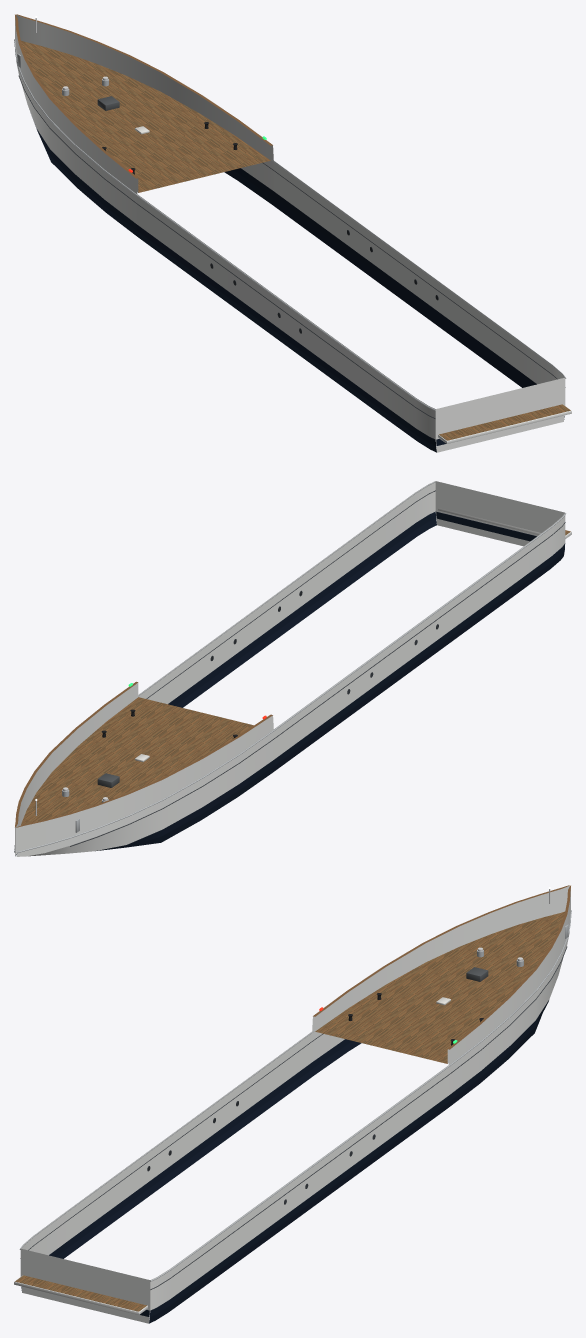
The model's file is marlin_hull.glb.
3 renders of one model, top to bottom at view 1: azimuth 30°, elevation 25°; view 2: azimuth 150°, elevation 25°; view 3: azimuth 330°, elevation 25°, orthographic.
Parts seen in each view (by area): view 1: marlin_hull; view 2: marlin_hull; view 3: marlin_hull.
Boxes of the visible parts, x1,y1,x2,y2 form: marlin_hull: (14, 14, 571, 452); marlin_hull: (14, 481, 571, 856); marlin_hull: (14, 885, 571, 1323).
Bounding box in the file's own units: 9.74 × 5.48 × 60.12.
14 materials, 1 textured.
